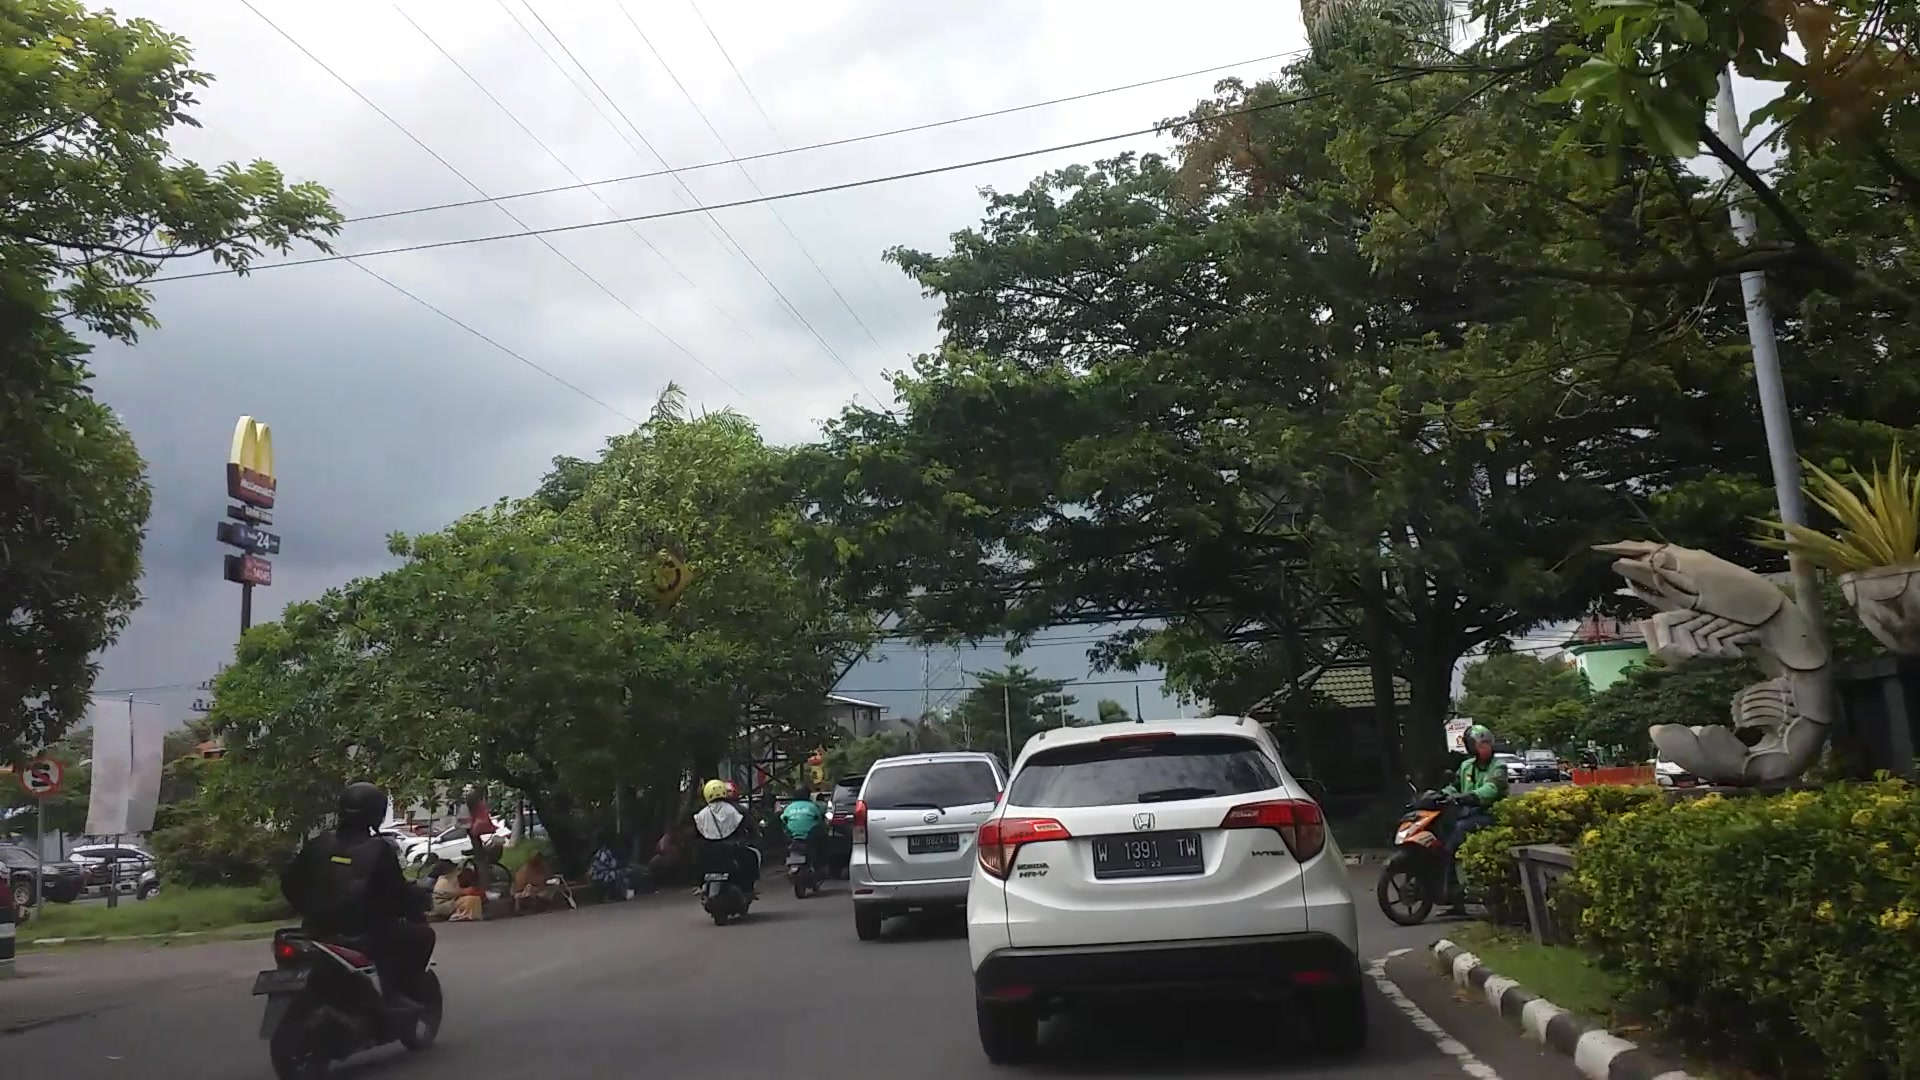plate_positive: (1091, 833, 1204, 877)
